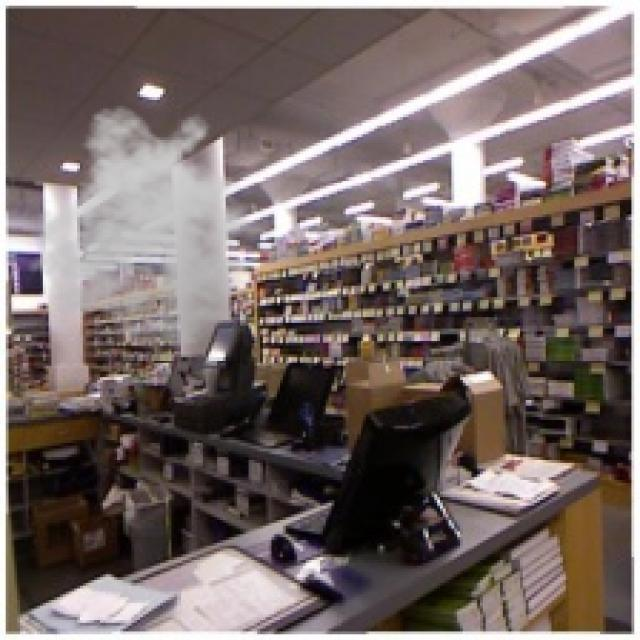Smoke: (26, 102, 280, 352)
